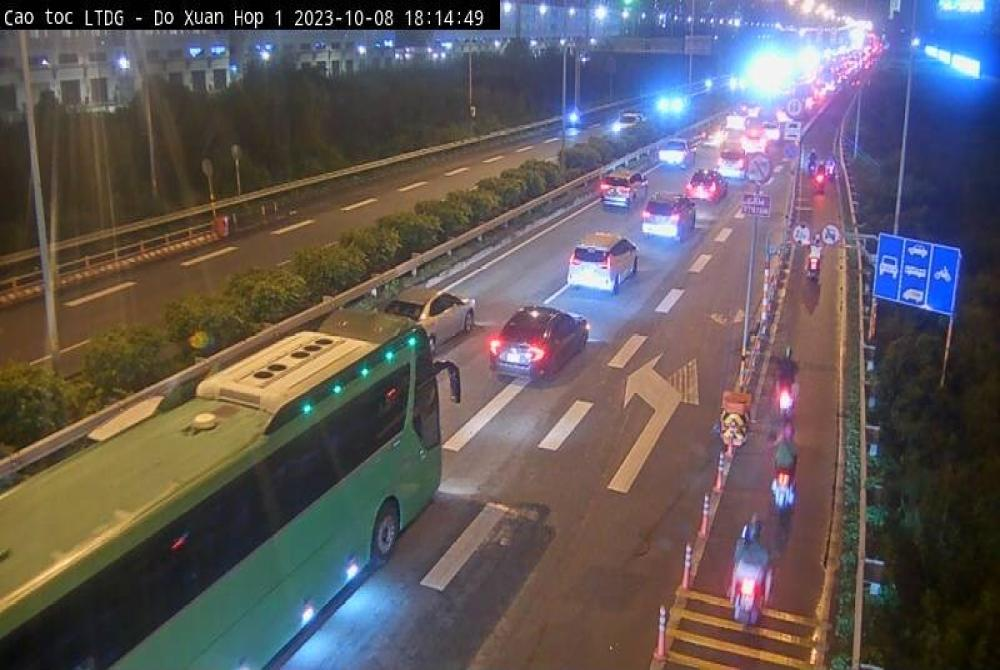bus: (0, 309, 450, 670)
car: (486, 304, 590, 386), (636, 157, 695, 243), (569, 231, 639, 294), (602, 173, 639, 214)
